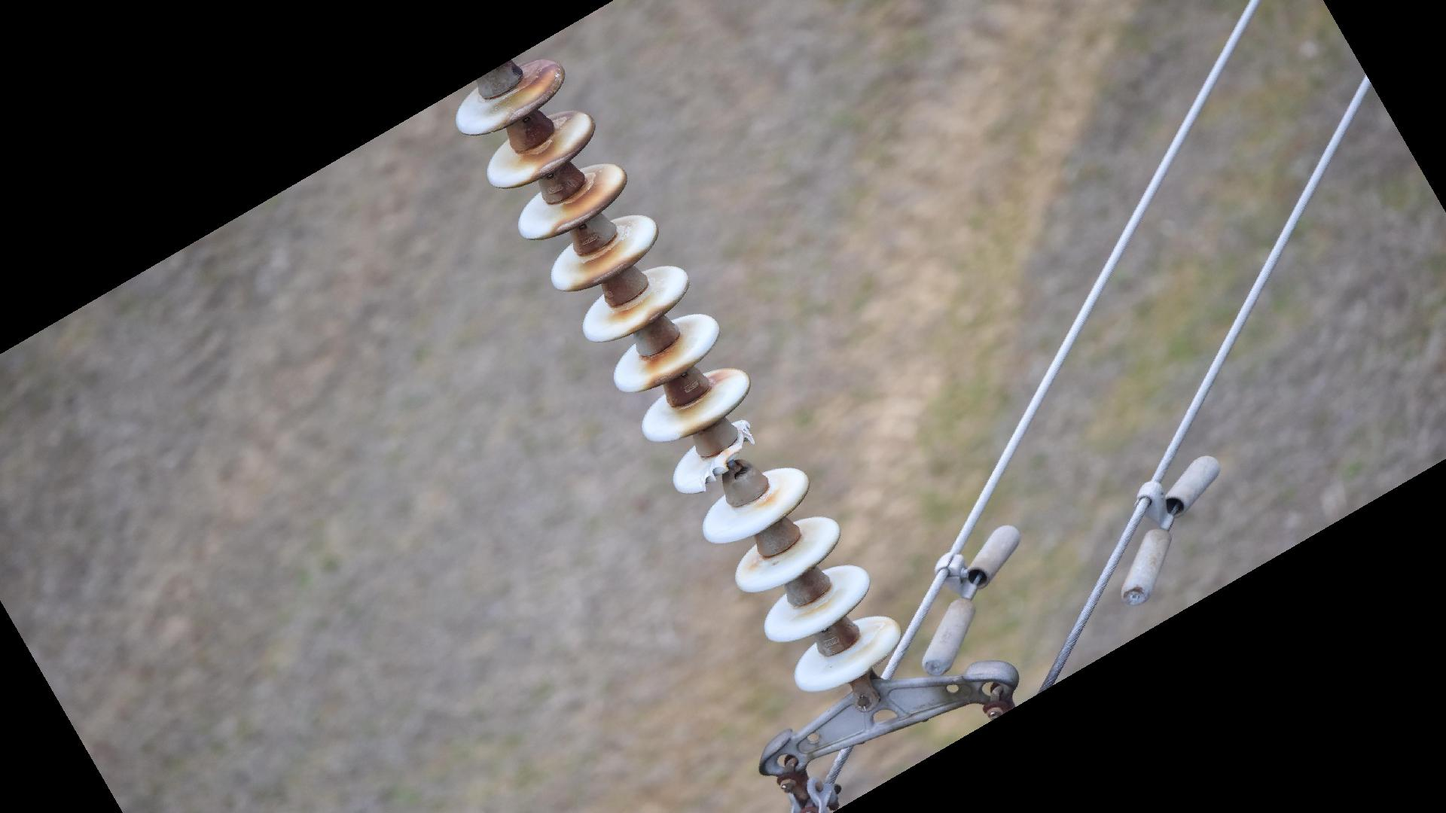insulator: (450, 53, 907, 700)
insulator_breakage: (697, 416, 757, 495)
